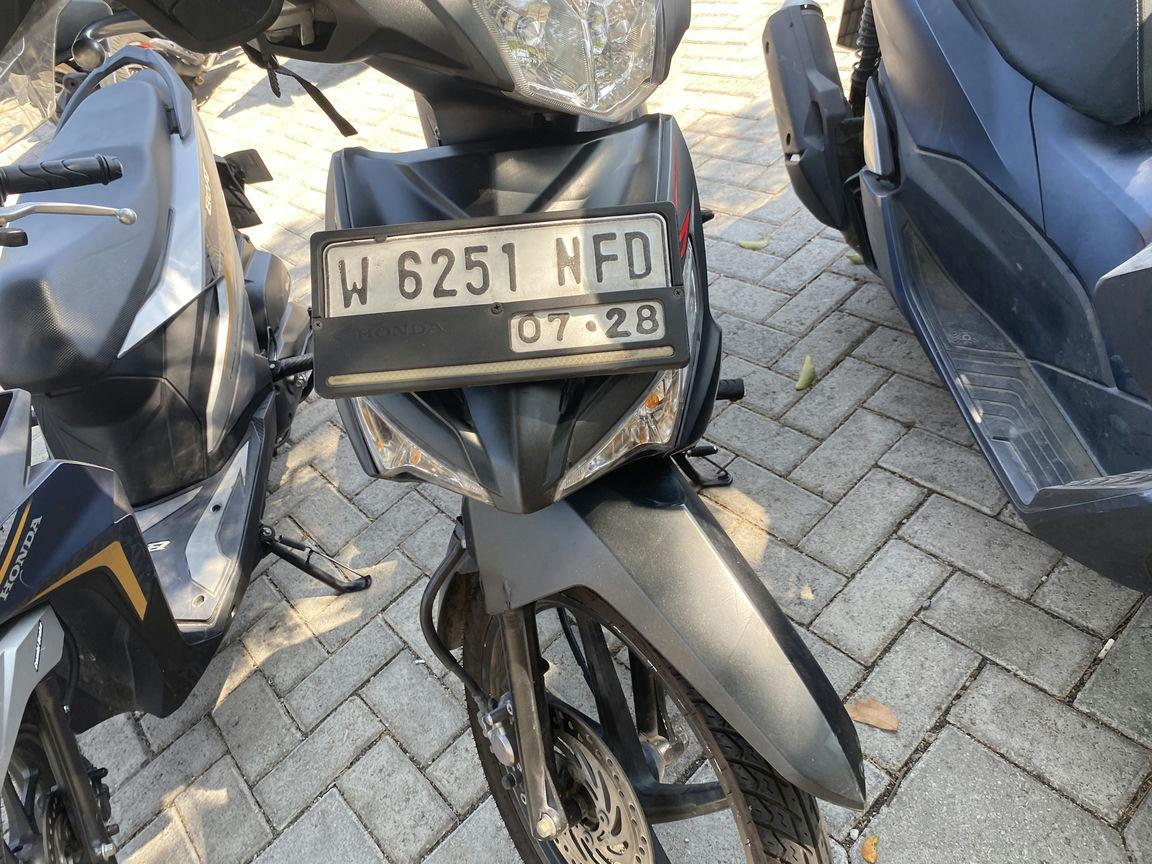plat: (313, 205, 688, 396)
